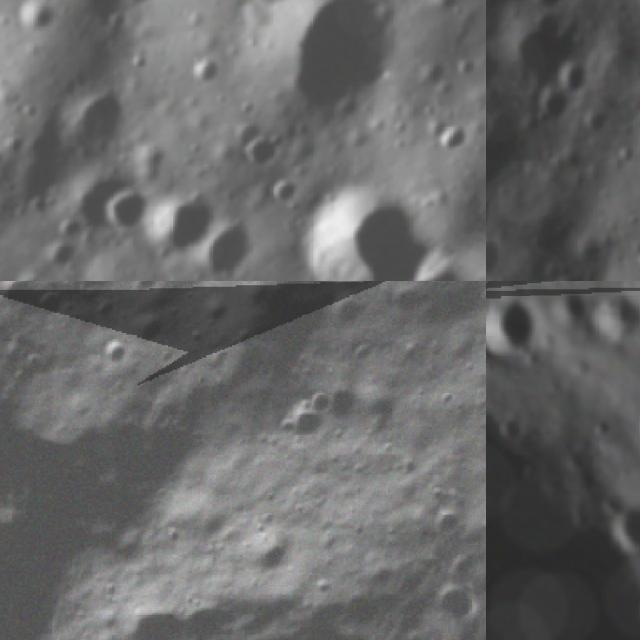crater: (233, 0, 430, 145), (268, 145, 460, 281), (0, 451, 137, 640), (0, 293, 62, 595), (42, 593, 334, 640), (178, 197, 267, 281), (139, 175, 223, 259), (502, 14, 584, 100), (228, 519, 308, 601), (59, 76, 134, 151), (266, 395, 342, 468), (90, 166, 164, 240), (112, 296, 178, 361), (81, 321, 144, 382), (486, 303, 546, 360), (233, 113, 291, 171), (17, 281, 76, 332), (1, 0, 64, 45), (420, 568, 470, 624), (588, 296, 640, 339), (0, 281, 45, 329), (537, 89, 572, 132), (486, 231, 508, 281), (524, 0, 579, 20), (608, 510, 640, 544), (486, 191, 498, 245), (486, 49, 498, 103), (486, 109, 498, 148)
